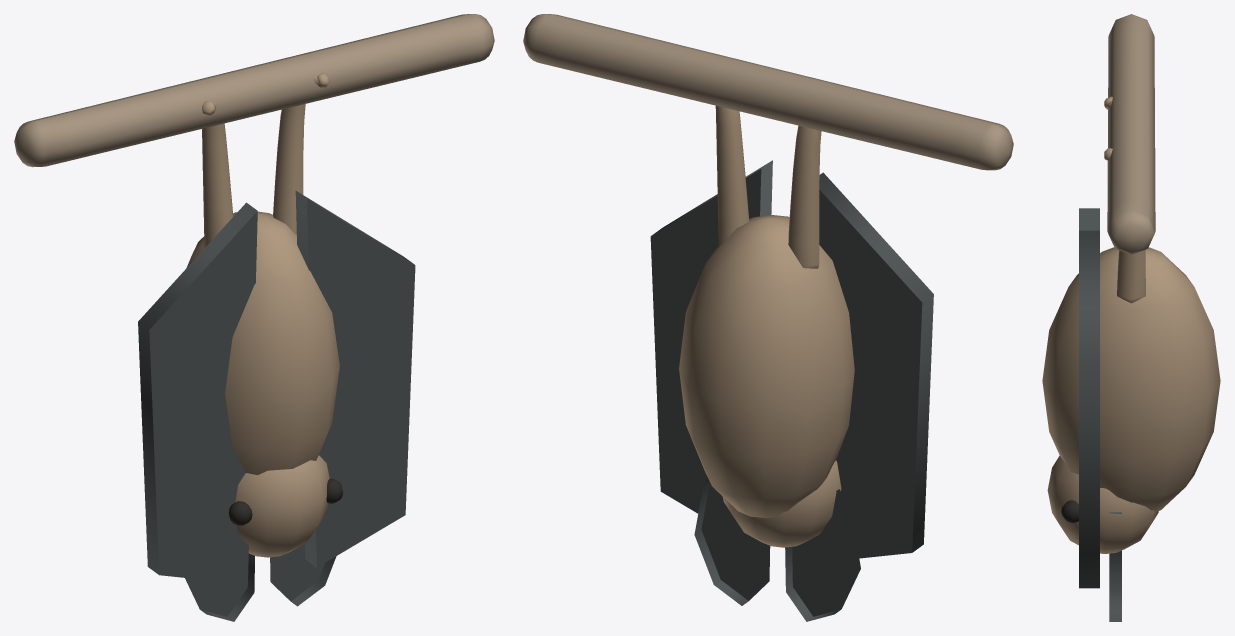
Rendered from birds-and-flying-creatures-fruit-bat-hanging-07e7c05b__20650.glb.
The picture shows the model from 3 angles, left to right: view 1: azimuth 30°, elevation 25°; view 2: azimuth 150°, elevation 25°; view 3: azimuth 270°, elevation 25°; orthographic projection. The views are drawn at different scales.
Visible parts, largest first — view 1: fruit-bat-hanging; view 2: fruit-bat-hanging; view 3: fruit-bat-hanging.
Boxes of the visible parts, box(x1,y1,x2,y2) form: fruit-bat-hanging: box(14, 14, 494, 621); fruit-bat-hanging: box(523, 14, 1013, 621); fruit-bat-hanging: box(1042, 14, 1220, 621).
Size of the model in its own units: 0.4805 by 0.5217 by 0.17.
